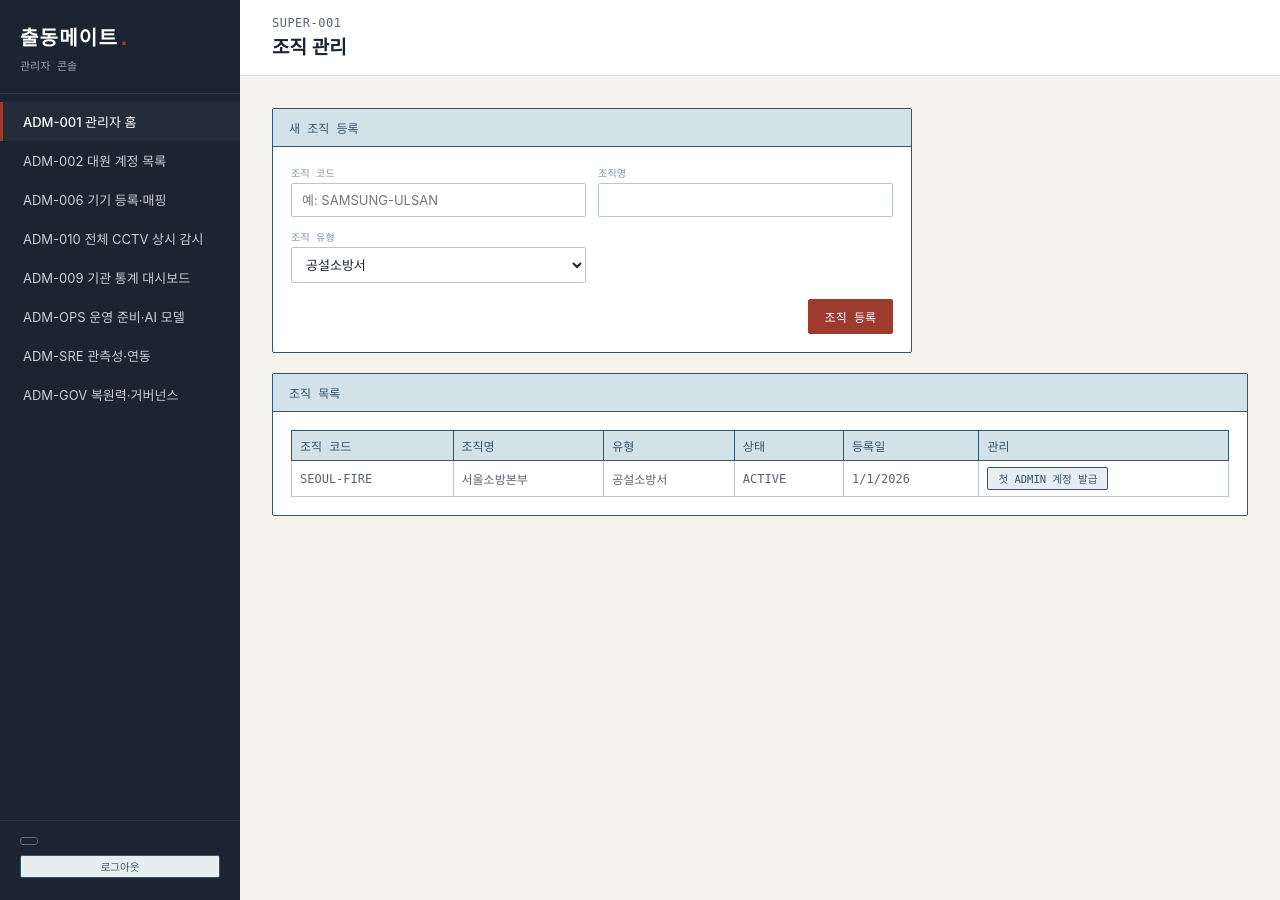
OrganizationsPage › 조직 코드 중복 에러는 배너로 보여준다
Expected: the text "서울소방본부" is shown, [453,460,604,496]
Type "SEOUL-FIRE" into the field labelled "조직 코드". click: (438, 200)
box: [291,183,586,217]
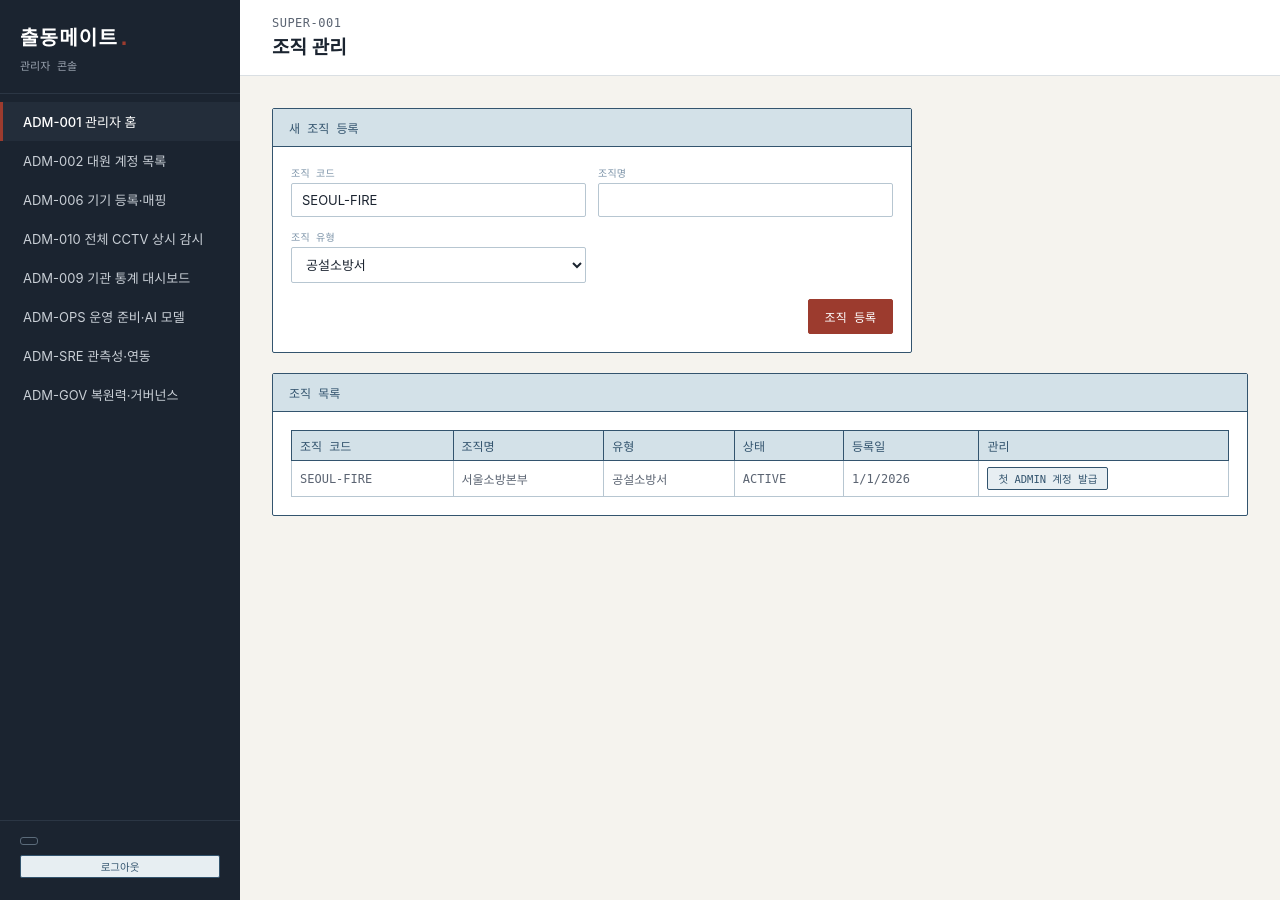
Type "중복" into the field labelled "조직명". click: (746, 200)
box: [598,183,893,217]
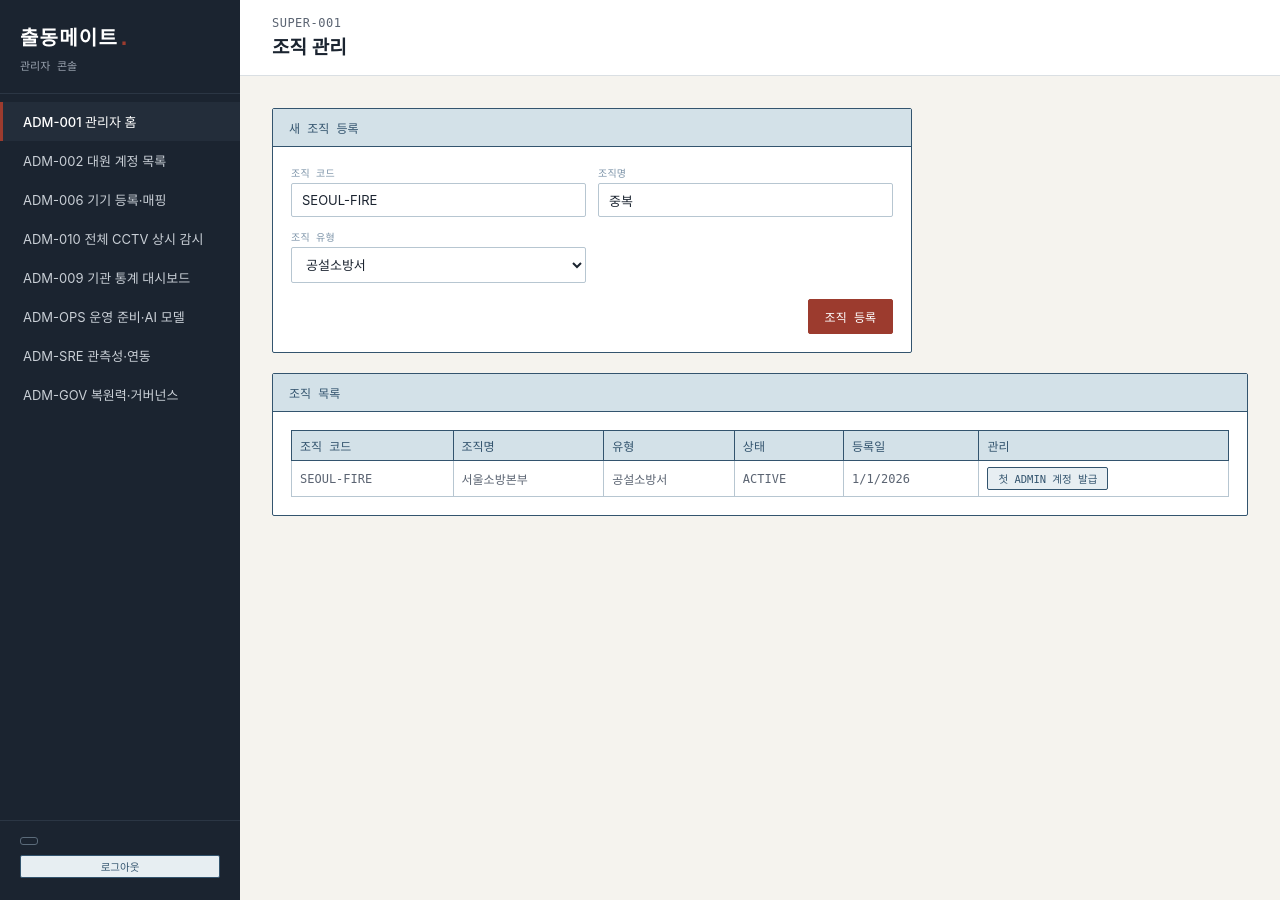
Click the button "조직 등록". click: (850, 316)
box: [808,299,893,334]
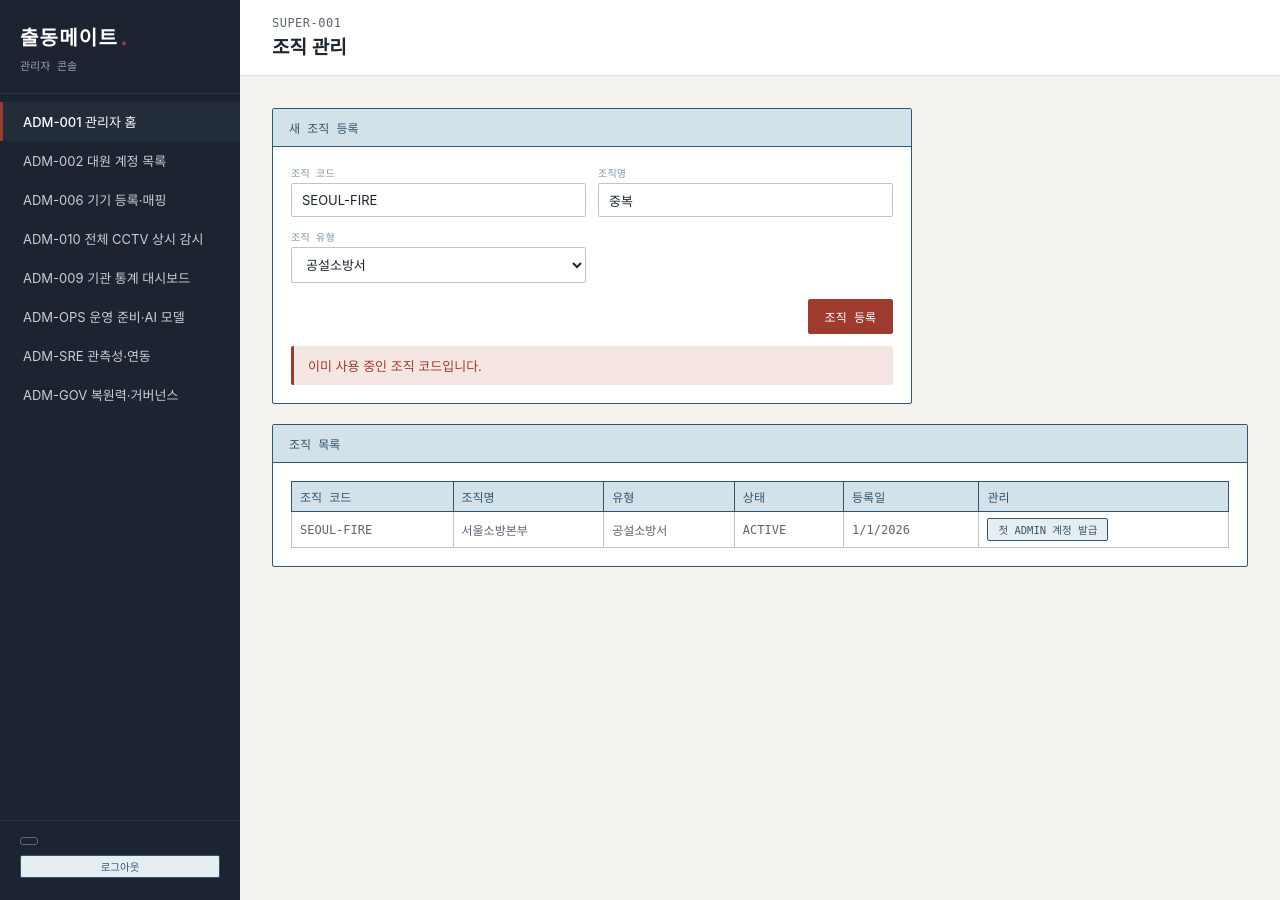
Expected: the text "이미 사용 중인 조직 코드입니다." is shown, [291,346,893,385]
